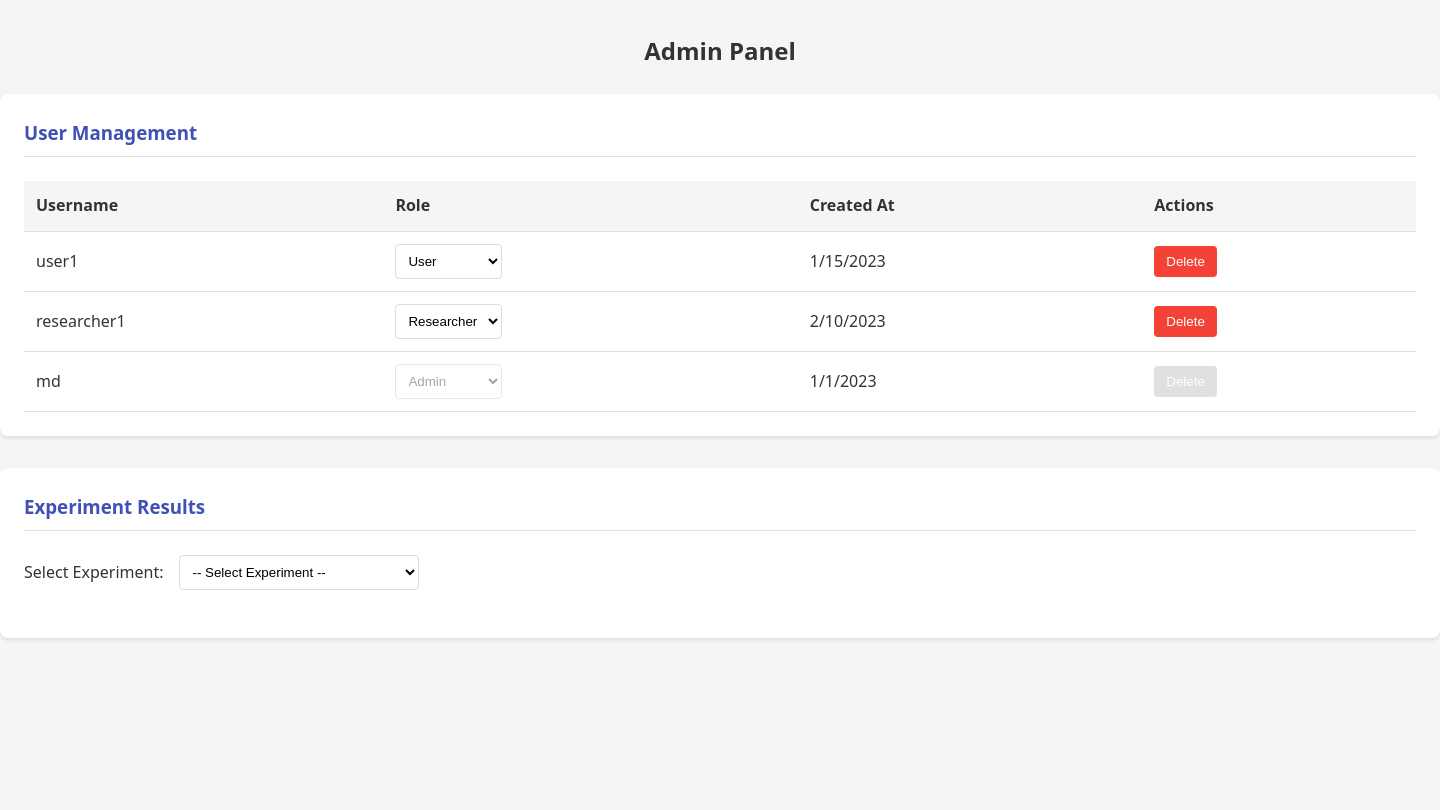
Test: AdminPanel Component › User Deletion Functionality › updates local state after successful deletion
Expected: the text "user1" is shown, 24,231 -> 383,291
Step 1. Click the button "Delete" in the row of "user1" → (1186, 261), box 1154,246 -> 1217,277
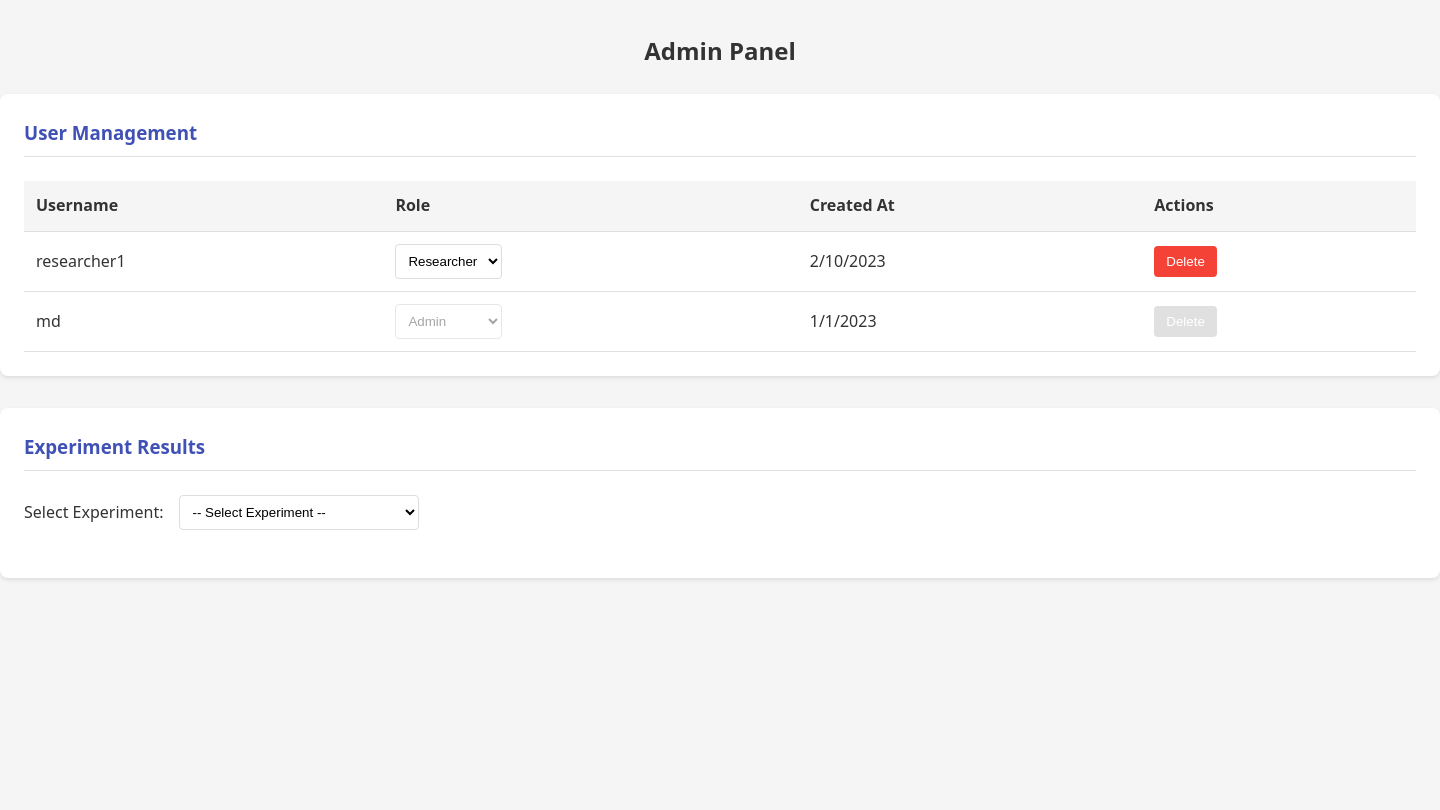
Expected: the text "user1" is gone
